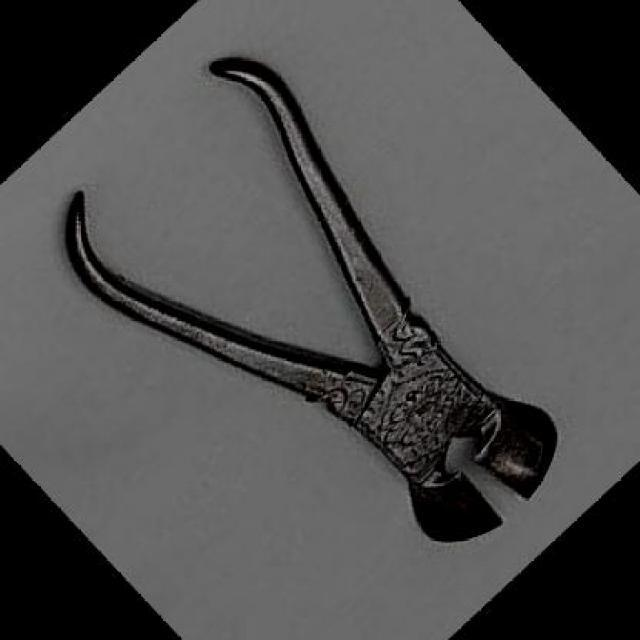pliers: (4, 14, 624, 638)
